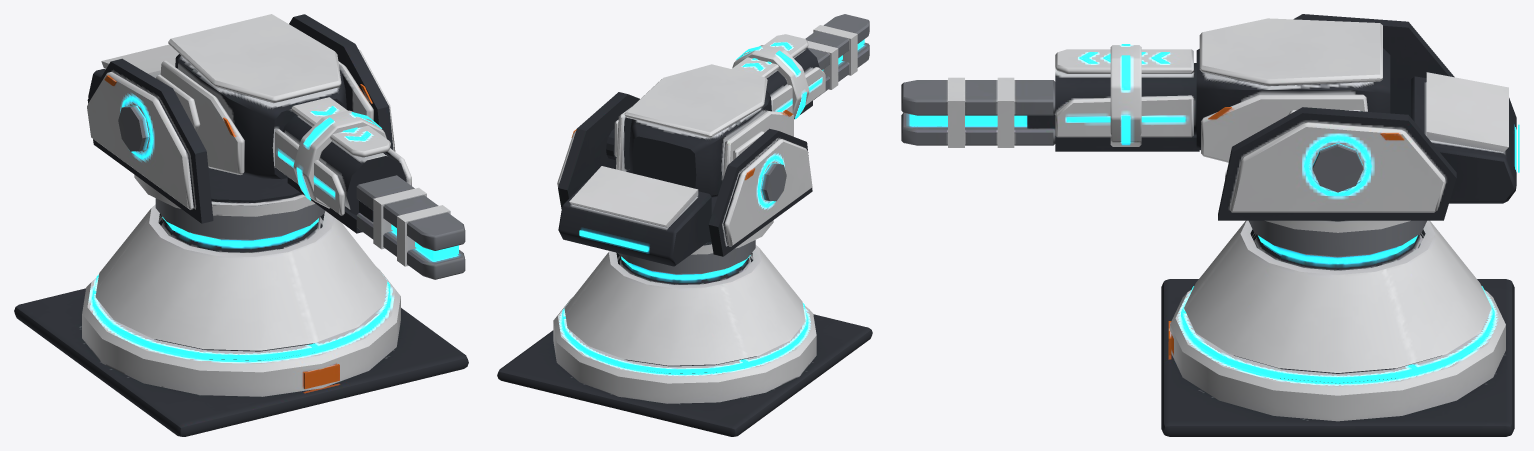
File: R4W_Basic_LOD1.glb
3 renders of one model, left to right at view 1: azimuth 30°, elevation 25°; view 2: azimuth 150°, elevation 25°; view 3: azimuth 270°, elevation 25°, orthographic. The views are drawn at different scales.
Visible parts, largest first — view 1: R4W_Basic_LOD1; view 2: R4W_Basic_LOD1; view 3: R4W_Basic_LOD1.
Part boxes in pixels (x1,y1,x2,y2): R4W_Basic_LOD1: (14, 14, 468, 436); R4W_Basic_LOD1: (497, 14, 872, 436); R4W_Basic_LOD1: (901, 14, 1519, 436).
Bounding box in the file's own units: 0.5 × 0.495 × 0.8751.
4 materials, 4 textured.
